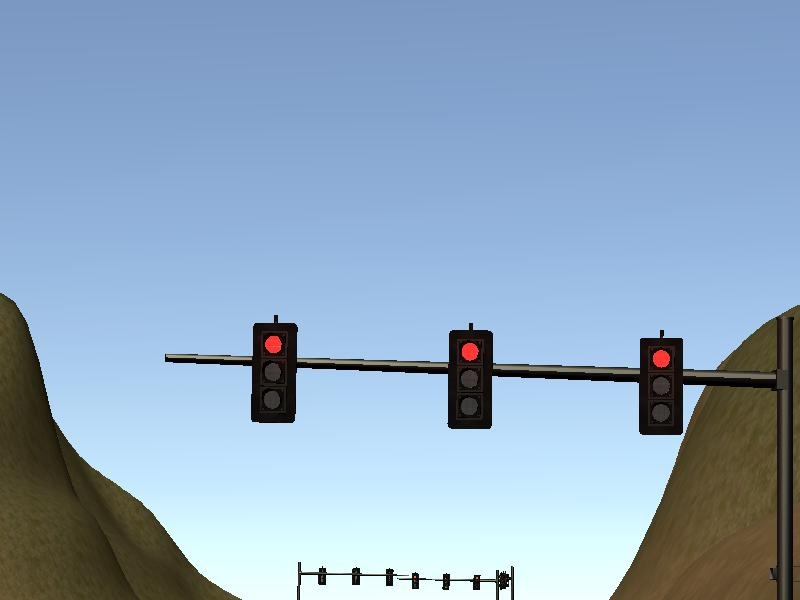red: (449, 331, 496, 430), (253, 324, 297, 424), (640, 338, 683, 436), (474, 575, 481, 590), (444, 574, 450, 590), (413, 574, 419, 589)
